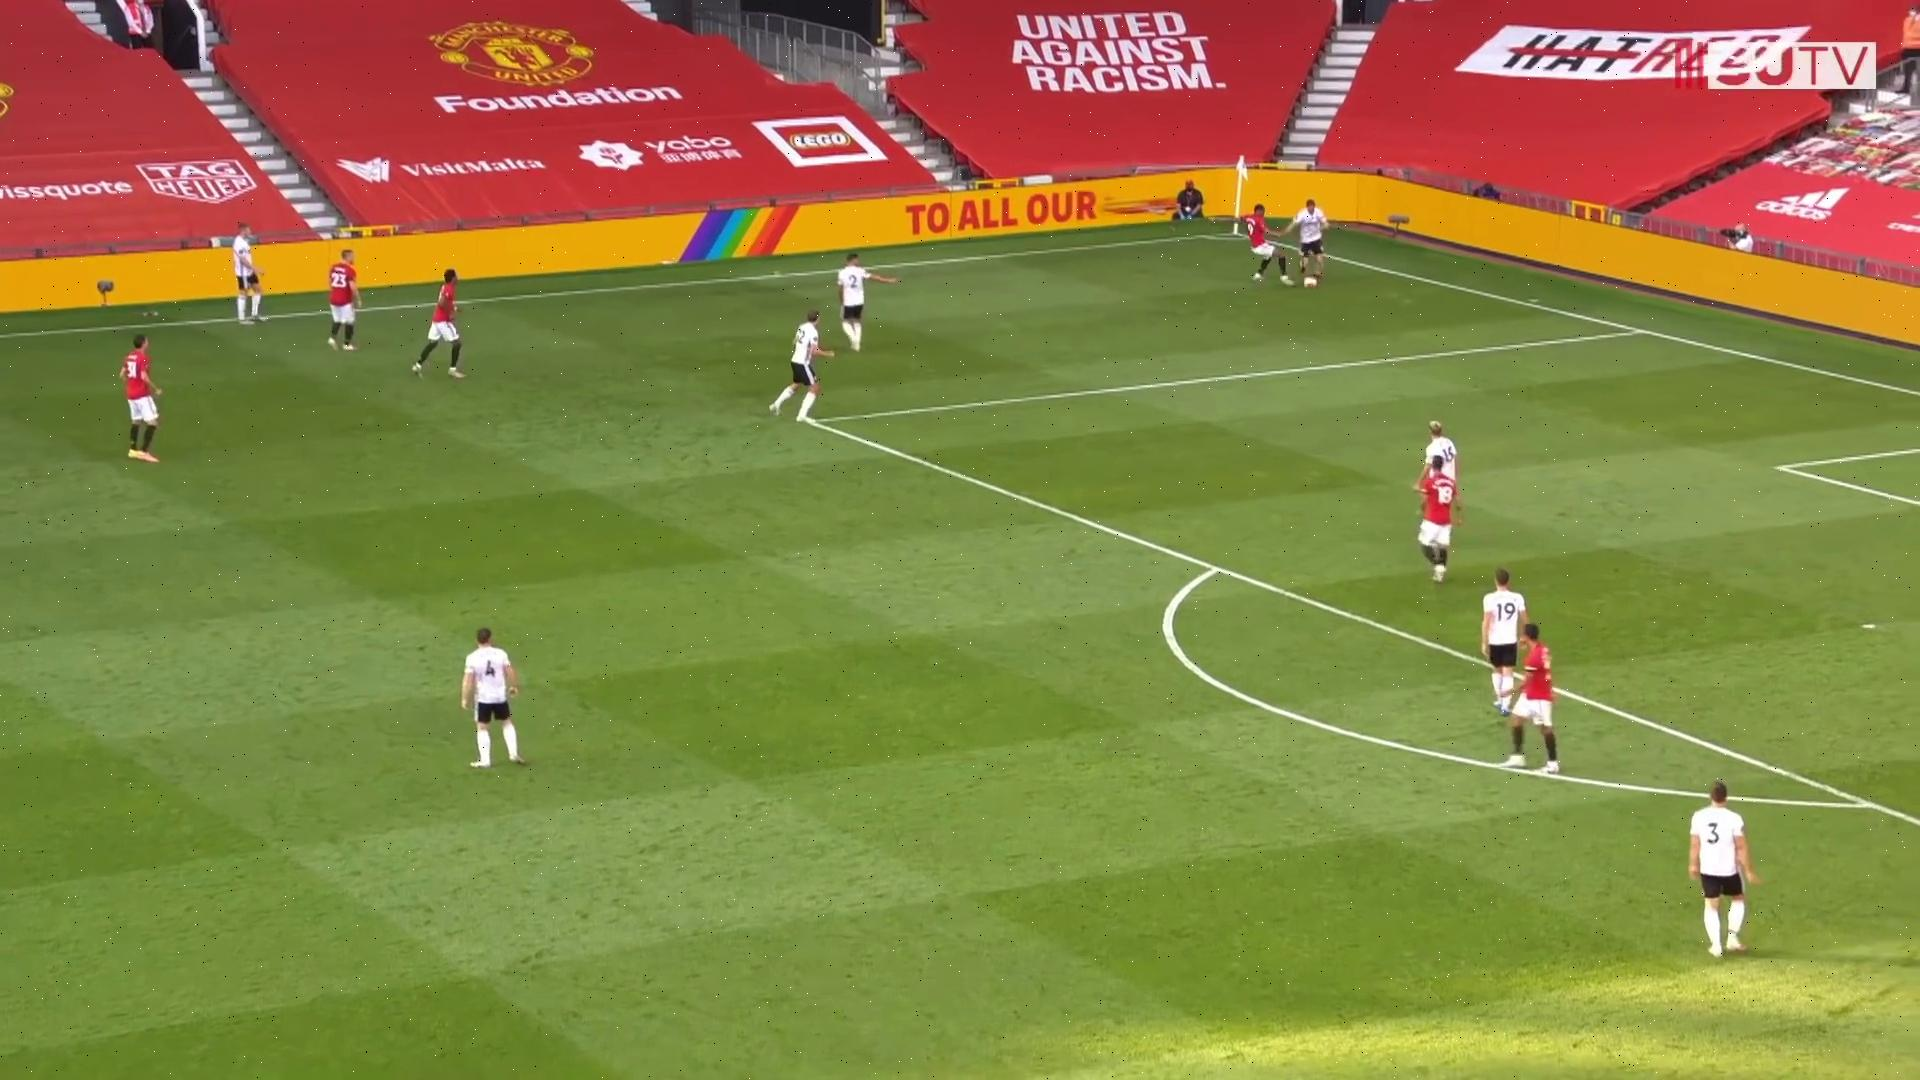ball: (1303, 273, 1319, 289)
